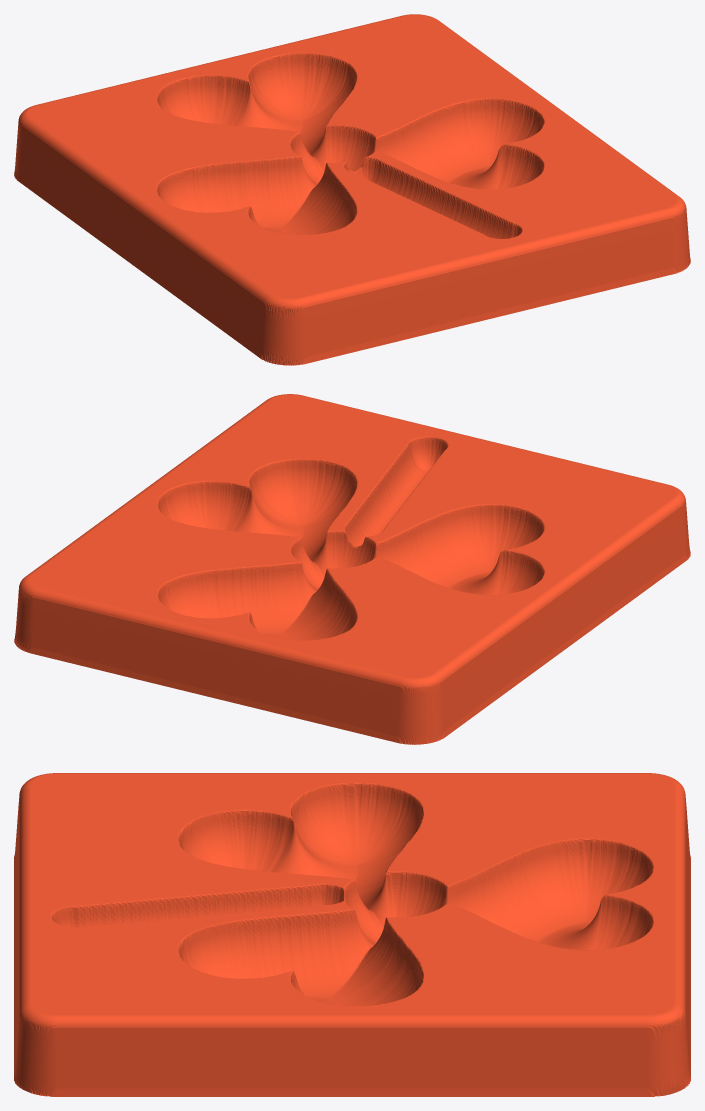
The model's file is mold.glb.
3 views of the same model, one above another, from view 1: azimuth 30°, elevation 25°; view 2: azimuth 150°, elevation 25°; view 3: azimuth 270°, elevation 25° (orthographic). The views are drawn at different scales.
Parts seen in each view (by area): view 1: geometry_0; view 2: geometry_0; view 3: geometry_0.
Boxes of the visible parts, x1=… form: geometry_0: x1=14, y1=14, x2=690, y2=365; geometry_0: x1=14, y1=394, x2=690, y2=744; geometry_0: x1=14, y1=773, x2=690, y2=1096.
Size of the model in its own units: 0.1279 by 0.0175 by 0.1435.
